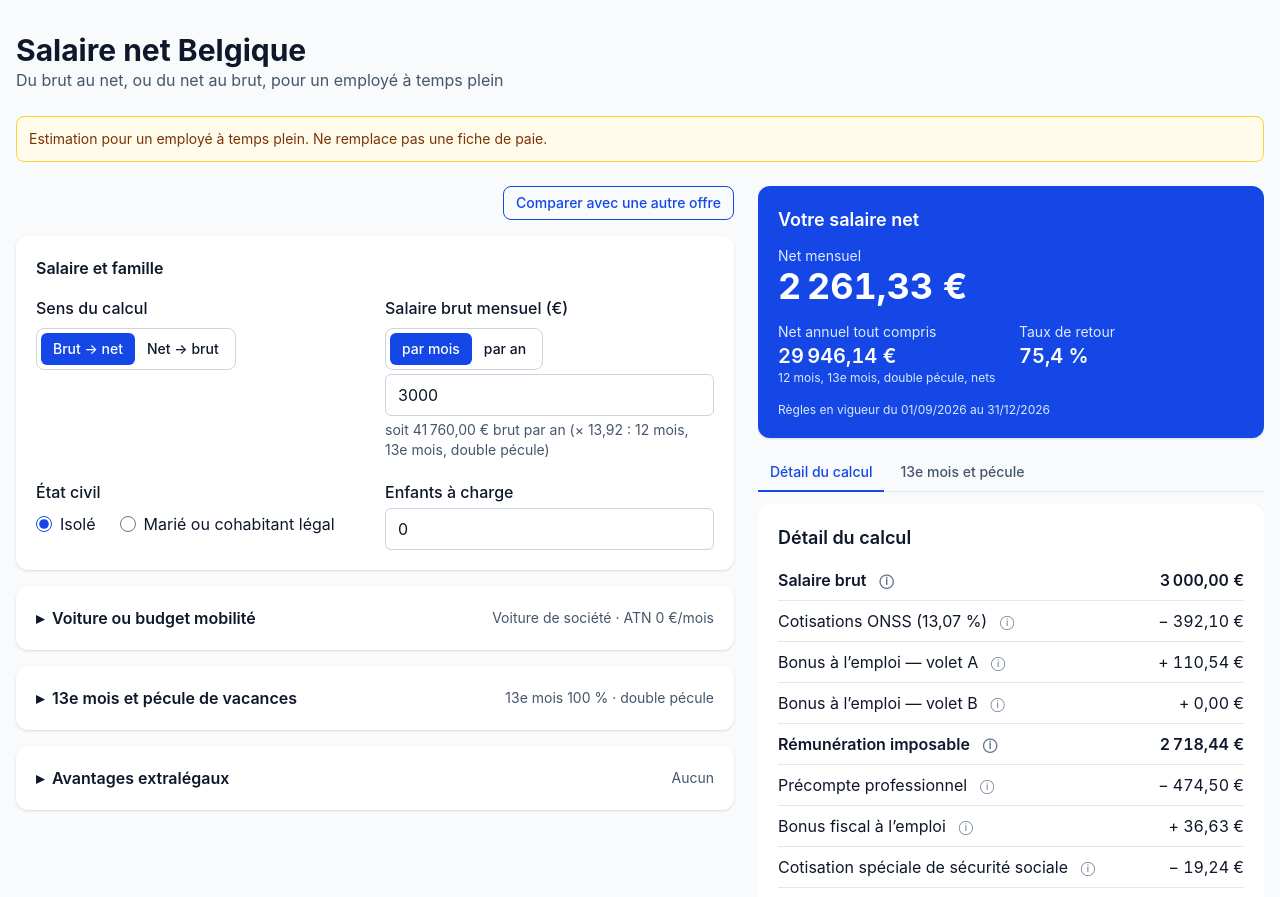
it: App › affiche l’erreur de saisie et masque les montants
The width and height of the screenshot is (1280, 897).
Clear the field labelled "Salaire brut mensuel (€)" at x=550, y=395, box [385, 374, 714, 416]
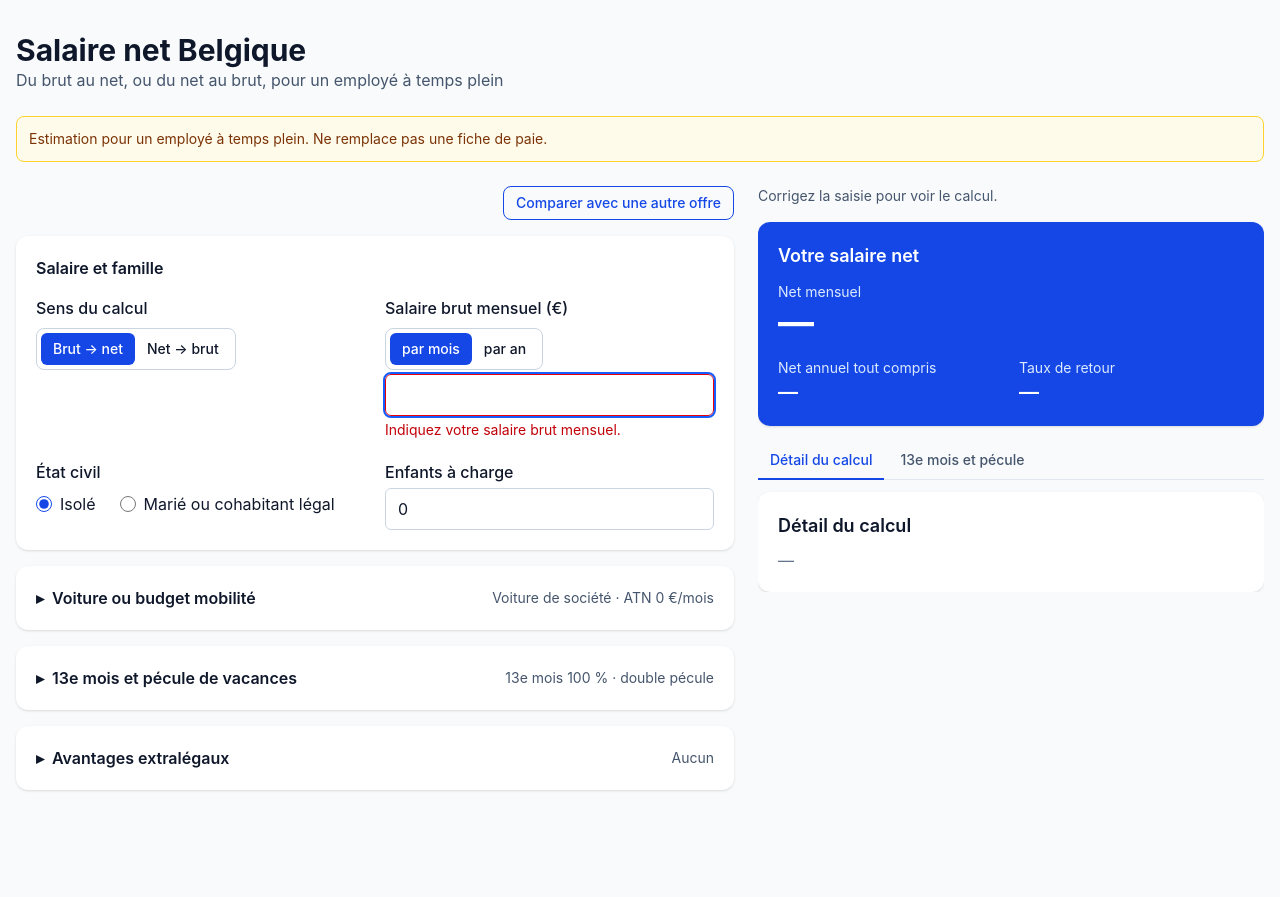
Check: the text "Indiquez votre salaire brut mensuel." is shown, box [385, 421, 621, 438]
Check: the text "—" below "Net mensuel" is shown, box [778, 300, 814, 344]
